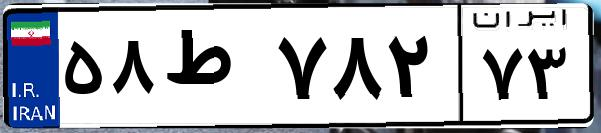2: (385, 28, 445, 110)
3: (525, 38, 570, 115)
5: (57, 26, 110, 100)
7: (270, 28, 330, 110), (475, 38, 525, 113)
8: (330, 28, 385, 110), (110, 28, 158, 98)
ط: (158, 20, 270, 120)
